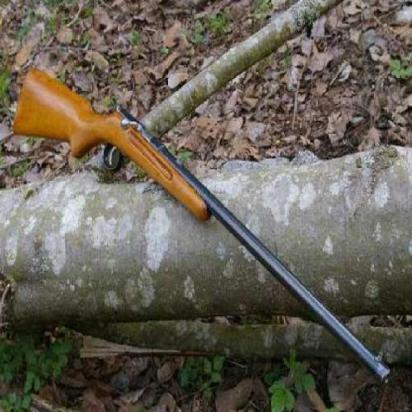Gun: (17, 66, 398, 392)
